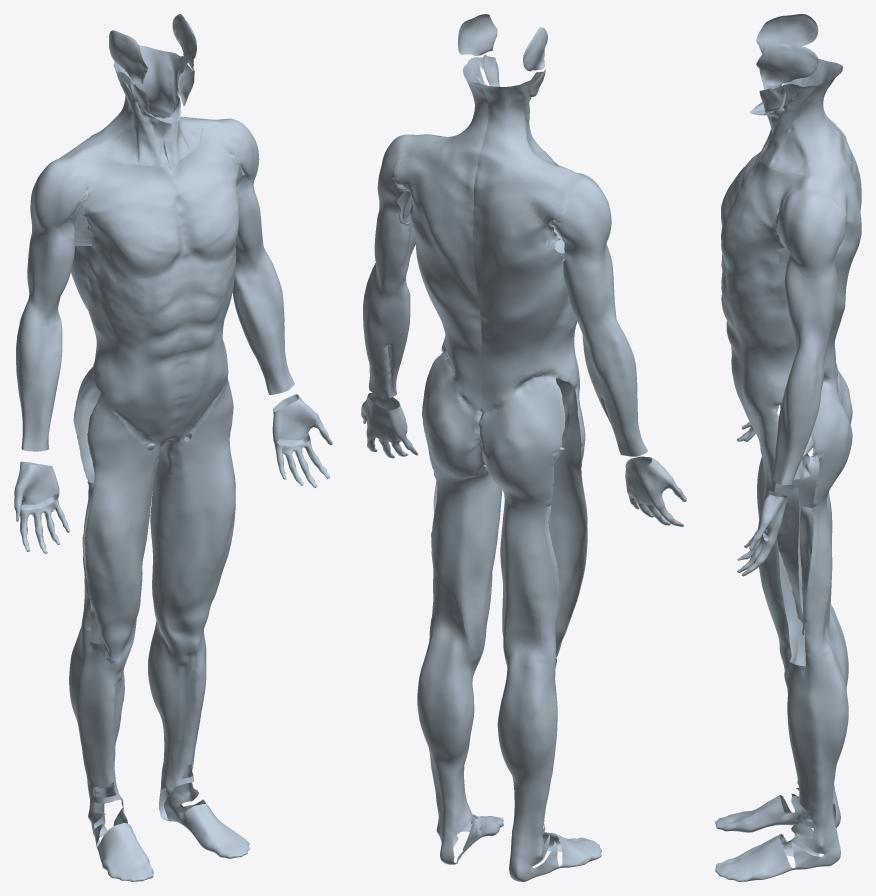
The model's file is fascia.glb.
The picture shows the model from 3 angles, left to right: view 1: azimuth 30°, elevation 25°; view 2: azimuth 150°, elevation 25°; view 3: azimuth 270°, elevation 25°; orthographic projection. The views are drawn at different scales.
Visible parts, largest first — view 1: Investing abdominal fascia.r, Fascia lata.l, Fascia lata.r, Crural fascia.l, Crural fascia.r, Pectoral fascia.r, Investing abdominal fascia.l, Pectoral fascia.l, Antebrachial fascia.r, Antebrachial fascia.l, Superficial investing cervical fascia.r, Deltoid fascia.r (+8 smaller); view 2: Fascia lata.r, Investing abdominal fascia.r, Fascia lata.l, Crural fascia.r, Investing abdominal fascia.l, Crural fascia.l, Superficial investing cervical fascia.r, Antebrachial fascia.r, Superficial investing cervical fascia.l, Antebrachial fascia.l, Deltoid fascia.r, Brachial fascia.r (+8 smaller); view 3: Crural fascia.l, Investing abdominal fascia.l, Fascia lata.l, Superficial investing cervical fascia.l, Deltoid fascia.l, Pectoral fascia.l, Antebrachial fascia.l, Brachial fascia.l, Crural fascia.r, Medial femoral intermuscular septum.l, Superficial layer of temporal fascia.l, Superficial layer of temporal fascia.r (+9 smaller).
Part boxes in pixels (<box>): Investing abdominal fascia.r: <box>71,223,187,444</box>; Fascia lata.l: <box>148,378,235,627</box>; Fascia lata.r: <box>73,366,167,648</box>; Crural fascia.l: <box>148,611,249,858</box>; Crural fascia.r: <box>69,621,153,881</box>; Pectoral fascia.r: <box>79,162,184,279</box>; Investing abdominal fascia.l: <box>148,142,236,439</box>; Pectoral fascia.l: <box>169,141,240,259</box>; Antebrachial fascia.r: <box>16,300,62,451</box>; Antebrachial fascia.l: <box>232,247,294,394</box>; Superficial investing cervical fascia.r: <box>58,61,174,167</box>; Deltoid fascia.r: <box>30,152,114,241</box>; Fascia lata.r: <box>479,377,587,667</box>; Investing abdominal fascia.r: <box>473,193,579,414</box>; Fascia lata.l: <box>422,351,502,647</box>; Crural fascia.r: <box>497,655,601,881</box>; Investing abdominal fascia.l: <box>405,163,482,412</box>; Crural fascia.l: <box>417,639,503,864</box>; Superficial investing cervical fascia.r: <box>474,72,576,203</box>; Antebrachial fascia.r: <box>581,317,647,456</box>; Superficial investing cervical fascia.l: <box>403,57,488,194</box>; Antebrachial fascia.l: <box>363,263,410,398</box>; Deltoid fascia.r: <box>527,159,611,260</box>; Brachial fascia.r: <box>561,238,616,335</box>; Crural fascia.l: <box>715,638,848,881</box>; Investing abdominal fascia.l: <box>721,184,861,439</box>; Fascia lata.l: <box>757,380,852,666</box>; Superficial investing cervical fascia.l: <box>750,68,855,195</box>; Deltoid fascia.l: <box>778,173,850,279</box>; Pectoral fascia.l: <box>721,161,783,276</box>; Antebrachial fascia.l: <box>771,339,827,484</box>; Brachial fascia.l: <box>784,251,837,348</box>; Crural fascia.r: <box>715,610,848,832</box>; Medial femoral intermuscular septum.l: <box>775,483,803,623</box>; Superficial layer of temporal fascia.l: <box>756,44,818,85</box>; Superficial layer of temporal fascia.r: <box>756,14,818,53</box>.
Bounding box in the file's own units: 0.6708 × 1.66 × 0.2686.
